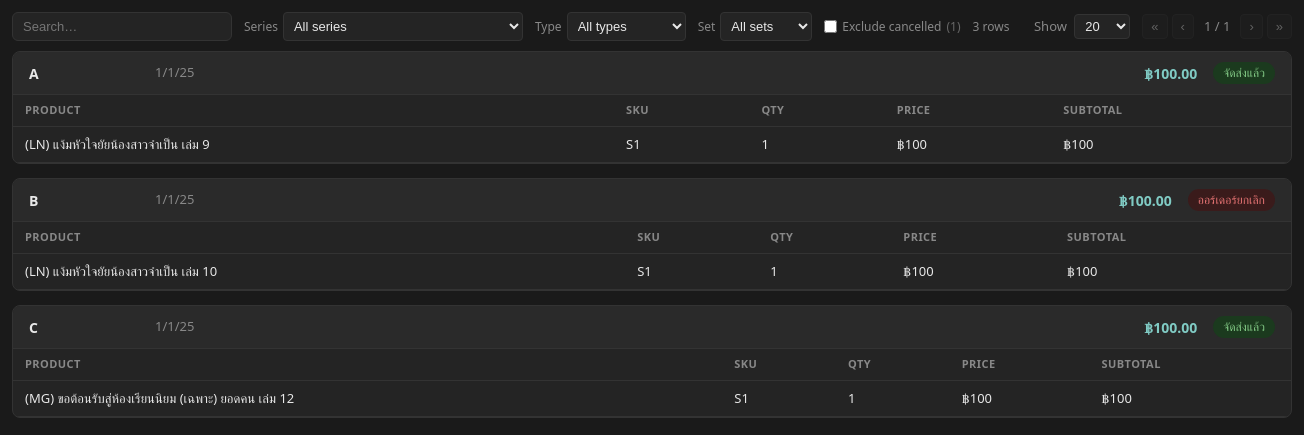
Test: exclude-cancelled checkbox › shows the Clear filters button for the checkbox alone
Check: the text "Clear filters" is not shown
Click the checkbox at (831, 26), box [824,20,837,33]
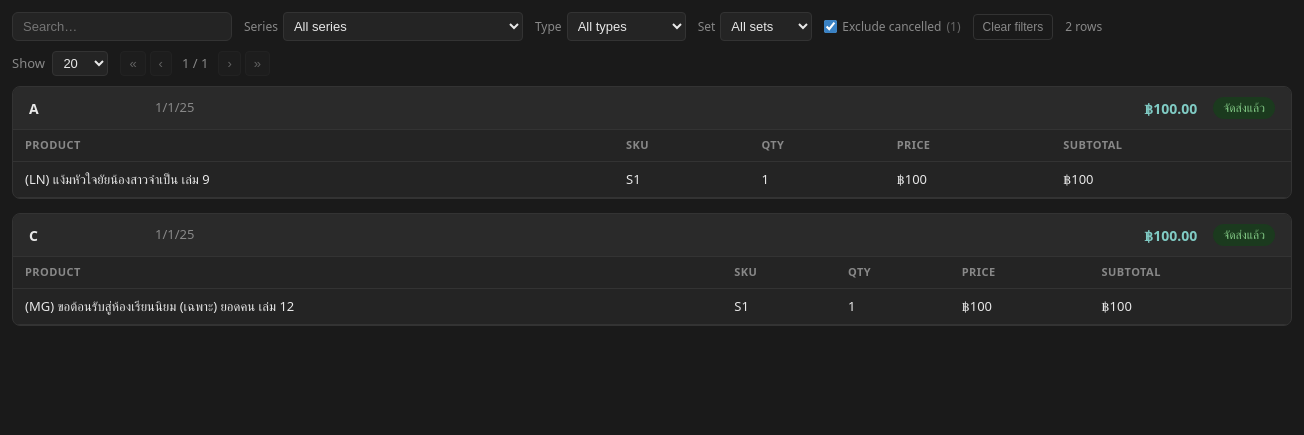
Check: the button "Clear filters" is shown, box [972,14,1053,40]
